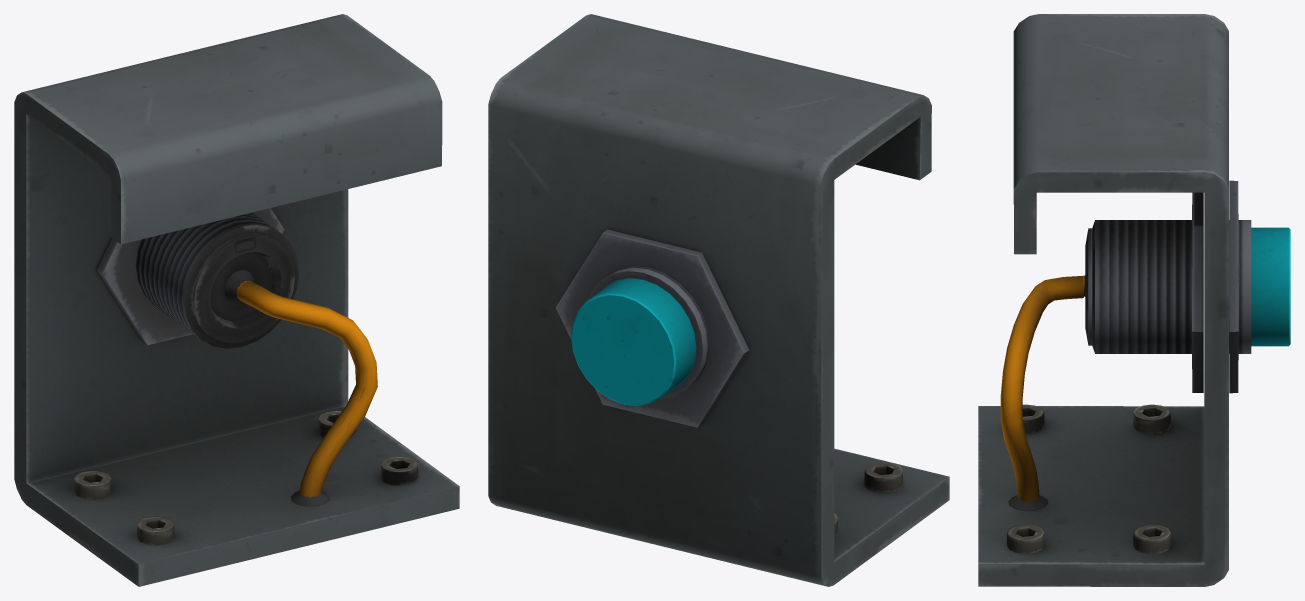
The model's file is CapacitiveSensor.glb.
3 renders of one model, left to right at view 1: azimuth 30°, elevation 25°; view 2: azimuth 150°, elevation 25°; view 3: azimuth 270°, elevation 25°, orthographic. The views are drawn at different scales.
Parts seen in each view (by area): view 1: CapacitiveSensor; view 2: CapacitiveSensor; view 3: CapacitiveSensor.
Boxes of the visible parts, x1,y1,x2,y2 form: CapacitiveSensor: (14, 14, 459, 586); CapacitiveSensor: (488, 14, 949, 586); CapacitiveSensor: (978, 14, 1290, 586).
Bounding box in the file's own units: 0.0949 × 0.1158 × 0.079.
1 material, 1 textured.
